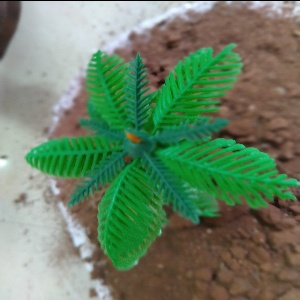plant: (27, 44, 292, 264)
